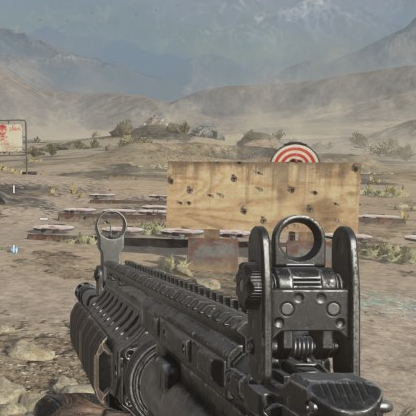target: (270, 142, 321, 163)
